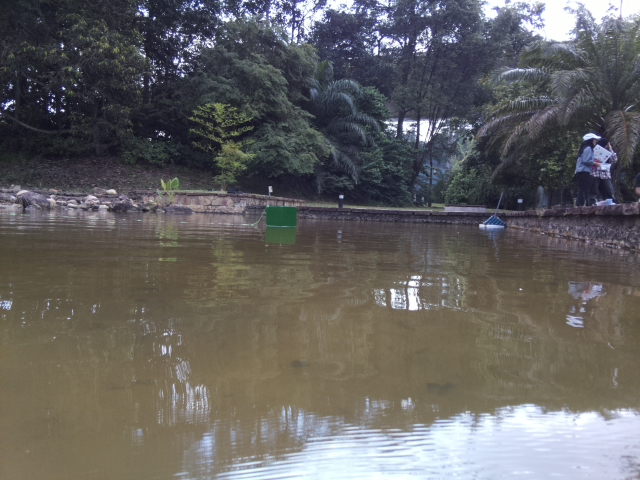obstacle: (266, 205, 298, 229)
